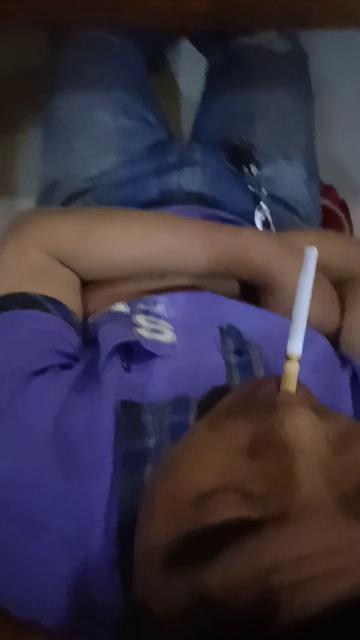Cigarette: (282, 248, 318, 392)
